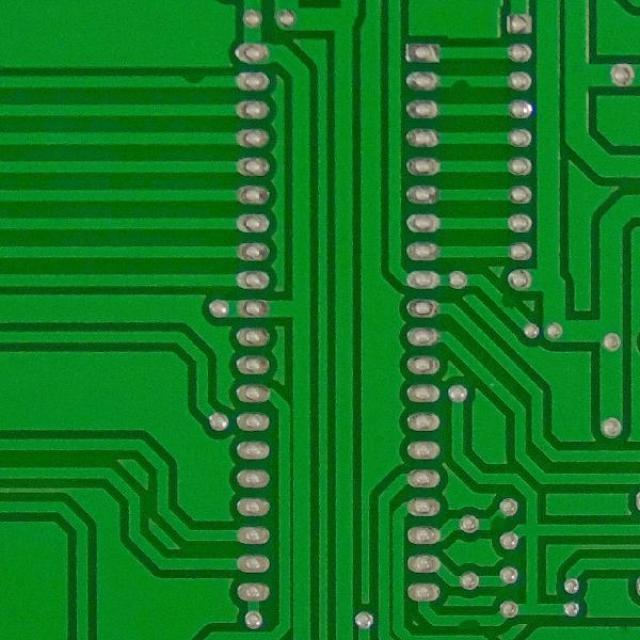MouseBite: (172, 71, 212, 91), (480, 513, 512, 533), (495, 290, 518, 316), (454, 612, 484, 630), (446, 72, 474, 91)
